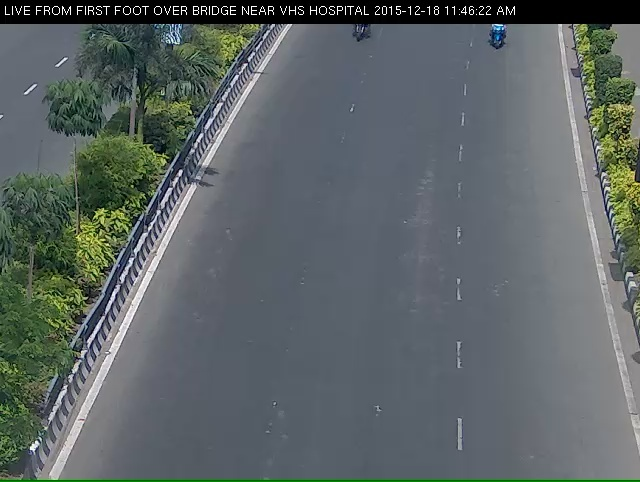Person: (486, 16, 512, 67), (343, 16, 373, 58)
